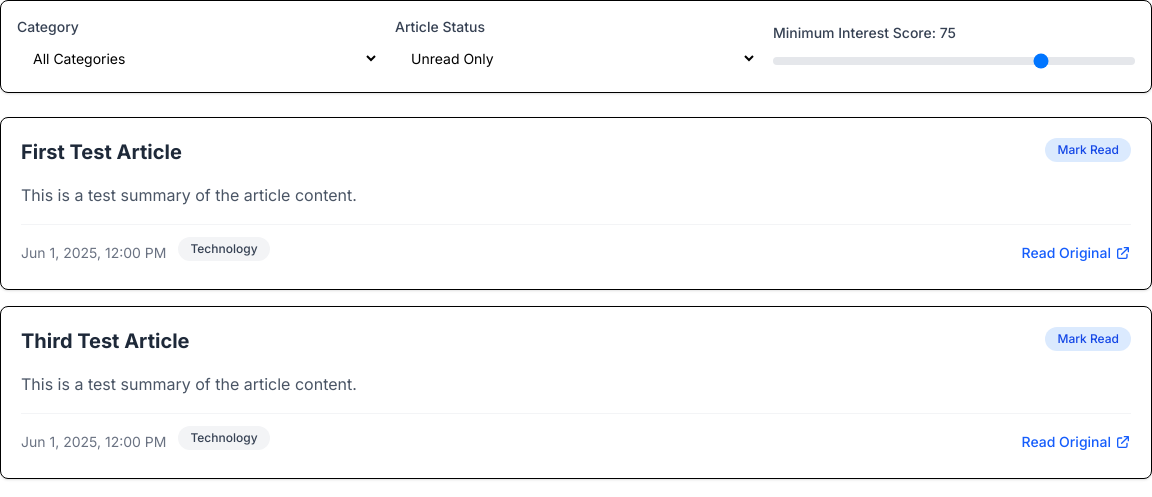
Test case: ArticleList › should update an articles read status when the button is clicked
The image size is (1152, 497).
Click the button "Mark Read" in the row of "First Test Article". click: (1088,150)
box: [1046,138,1131,162]
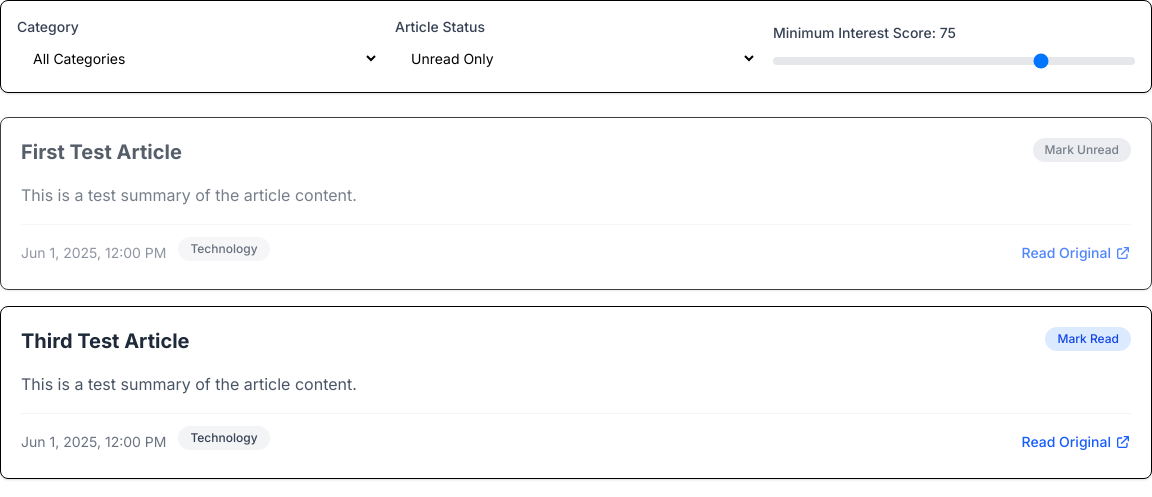
Check: the button "Mark Unread" is shown, box [1033,138,1131,162]
